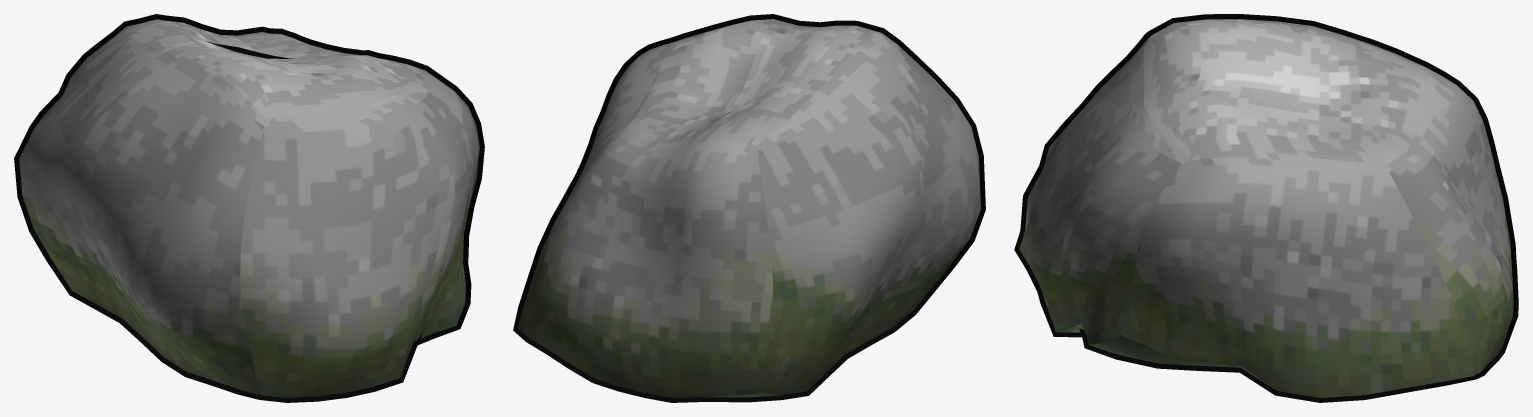
Rendered from stone2 with moss.fbx.
3 views of the same model, side by side, from view 1: azimuth 30°, elevation 25°; view 2: azimuth 150°, elevation 25°; view 3: azimuth 270°, elevation 25° (orthographic). The views are drawn at different scales.
Visible parts, largest first — view 1: Stone2 W Moss, OL Stone2; view 2: Stone2 W Moss, OL Stone2; view 3: Stone2 W Moss, OL Stone2.
Boxes of the visible parts, <box> form: Stone2 W Moss: <box>19,19,479,397</box>; OL Stone2: <box>14,14,484,402</box>; Stone2 W Moss: <box>517,19,980,397</box>; OL Stone2: <box>513,14,985,402</box>; Stone2 W Moss: <box>1019,19,1513,397</box>; OL Stone2: <box>1014,14,1518,402</box>.
Bounding box in the file's own units: 15.67 × 12.31 × 19.5.
Materials: 2 (1 with a texture image).
